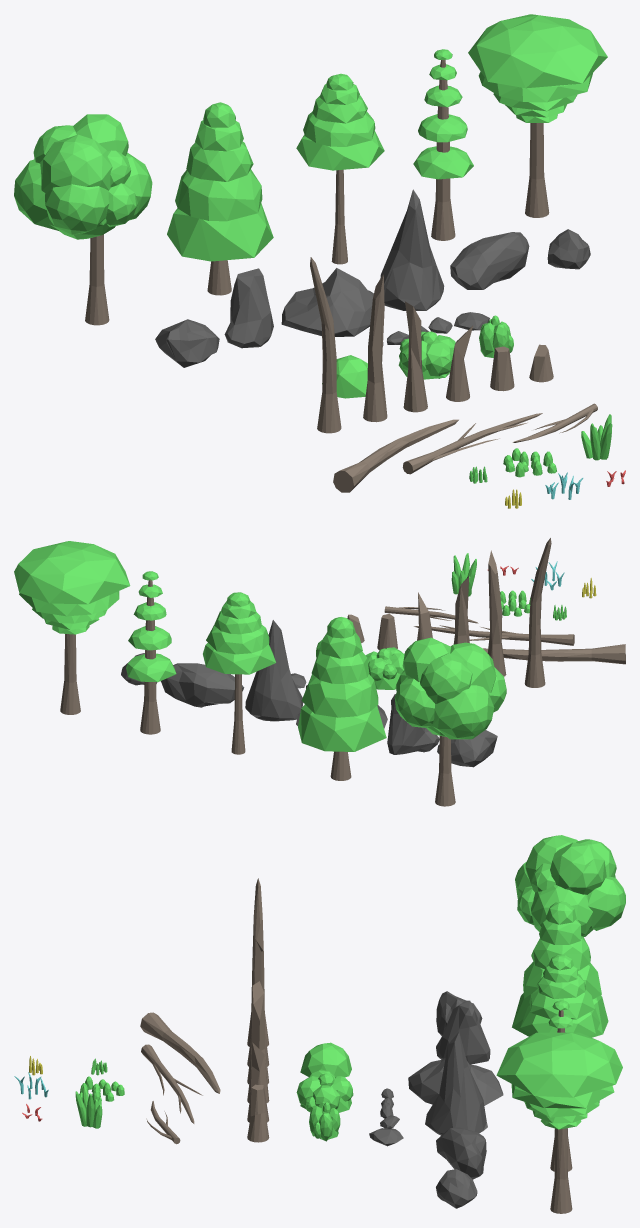
Rendered from All.fbx.
The picture shows the model from 3 angles, top to bottom: view 1: azimuth 30°, elevation 25°; view 2: azimuth 150°, elevation 25°; view 3: azimuth 270°, elevation 25°; orthographic projection. The views are drawn at different scales.
Visible parts, largest first — view 1: Sphere.017, Sphere.034, Sphere.005, Sphere.011, Sphere.028, rock.008, rock.007, rock.009, rock.006, Sphere.052, Sphere.054, rock.005 (+13 smaller); view 2: Sphere.017, Sphere.034, Sphere.005, Sphere.011, Sphere.028, rock.008, rock.009, Sphere.052, Sphere.058, rock.006, Sphere.054, Sphere.036 (+8 smaller); view 3: Sphere.034, Sphere.017, Sphere.005, Sphere.011, rock.008, rock.006, rock.007, rock.009, Sphere.036, Sphere.058, Sphere.035, rock.010 (+12 smaller).
Part boxes in pixels (x1,y1,x2,y2): Sphere.017: [14, 114, 152, 325]; Sphere.034: [468, 14, 607, 217]; Sphere.005: [167, 102, 273, 295]; Sphere.011: [296, 73, 384, 264]; Sphere.028: [413, 49, 473, 240]; rock.008: [380, 189, 444, 310]; rock.007: [281, 268, 373, 336]; rock.009: [450, 232, 529, 289]; rock.006: [224, 268, 273, 348]; Sphere.052: [310, 257, 341, 433]; Sphere.054: [363, 274, 387, 422]; rock.005: [155, 319, 219, 367]; Sphere.017: [394, 637, 506, 806]; Sphere.034: [14, 541, 130, 714]; Sphere.005: [298, 617, 386, 780]; Sphere.011: [203, 592, 275, 754]; Sphere.028: [126, 571, 176, 734]; rock.008: [245, 620, 303, 721]; rock.009: [161, 663, 244, 707]; Sphere.052: [524, 538, 551, 687]; Sphere.058: [483, 644, 625, 664]; rock.006: [387, 694, 439, 754]; Sphere.054: [487, 550, 506, 676]; Sphere.036: [365, 647, 404, 689]; Sphere.034: [496, 1032, 622, 1213]; Sphere.017: [515, 835, 625, 937]; Sphere.005: [512, 901, 608, 1037]; Sphere.011: [520, 954, 600, 1035]; rock.008: [425, 1032, 487, 1135]; rock.006: [436, 1000, 490, 1064]; rock.007: [408, 1058, 503, 1105]; rock.009: [436, 1127, 486, 1179]; Sphere.036: [296, 1069, 353, 1112]; Sphere.058: [140, 1012, 220, 1093]; Sphere.035: [300, 1042, 351, 1077]; rock.010: [436, 1169, 477, 1208].
Size of what is drawn, in the model's own units: 586 by 202 by 613.
